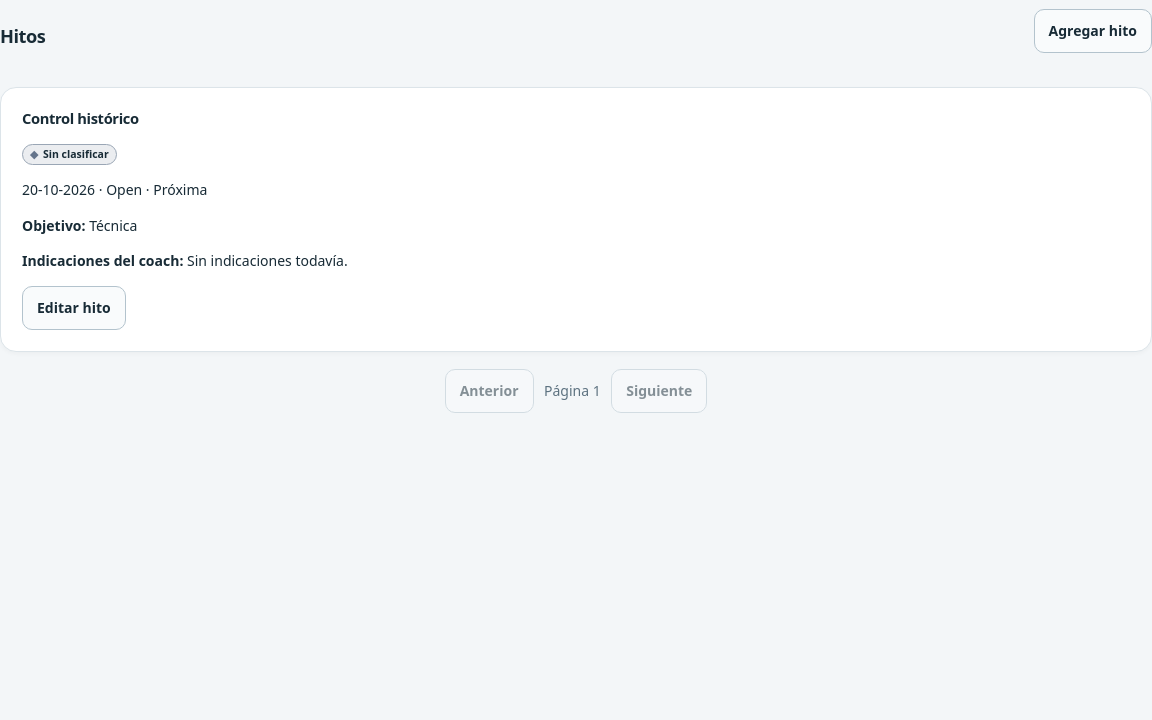
Evolución coaching › muestra hitos históricos sin clasificación y exige clasificarlos al editarlos
This screenshot has width=1152, height=720.
Expected: the text "Sin clasificar" is shown, [43, 147, 109, 161]
Click the button "Editar hito". click: click(74, 308)
box: [22, 286, 126, 330]
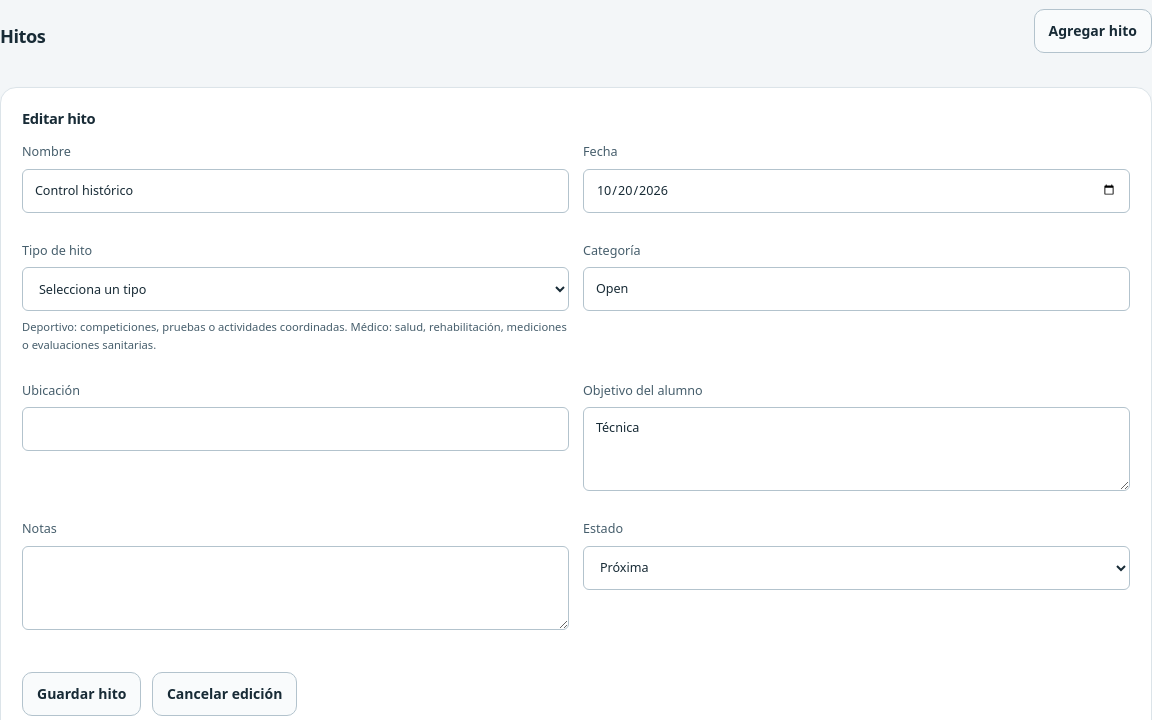
Expected: the dropdown labelled "Tipo de hito" shows "Selecciona un tipo", [22, 267, 569, 311]
